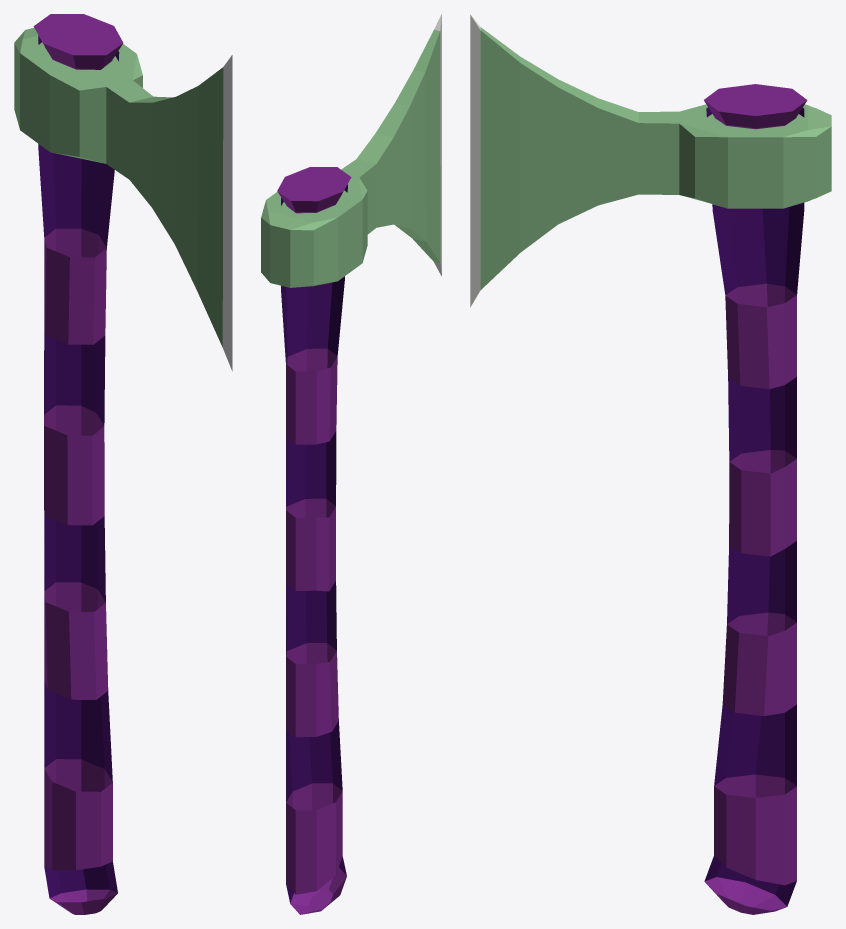
File: woodsmansaxe.glb
3 views of the same model, side by side, from view 1: azimuth 30°, elevation 25°; view 2: azimuth 150°, elevation 25°; view 3: azimuth 270°, elevation 25° (orthographic). The views are drawn at different scales.
Visible parts, largest first — view 1: Cube; view 2: Cube; view 3: Cube.
Boxes of the visible parts, left/top/right/bottom form: Cube: left=14, top=14, right=232, bottom=914; Cube: left=261, top=14, right=441, bottom=914; Cube: left=470, top=14, right=831, bottom=914.
Bounding box in the file's own units: 2.36 × 25.17 × 9.17.
